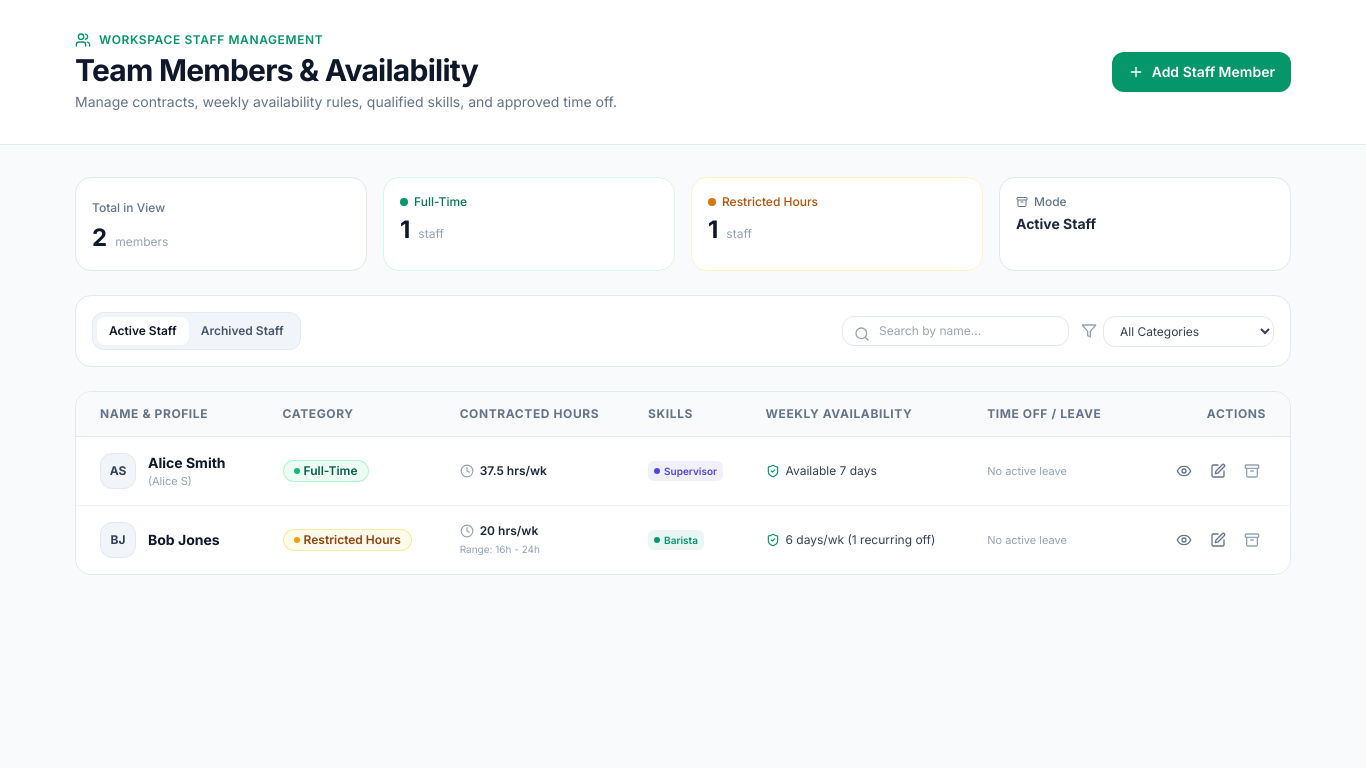
Test: StaffPage Component › opens detail modal when clicking a staff member name
What coordinates should you click on to do the following:
click the button "Alice Smith"
I would click on:
 (187, 463)
Its box is [148,453,226,473].
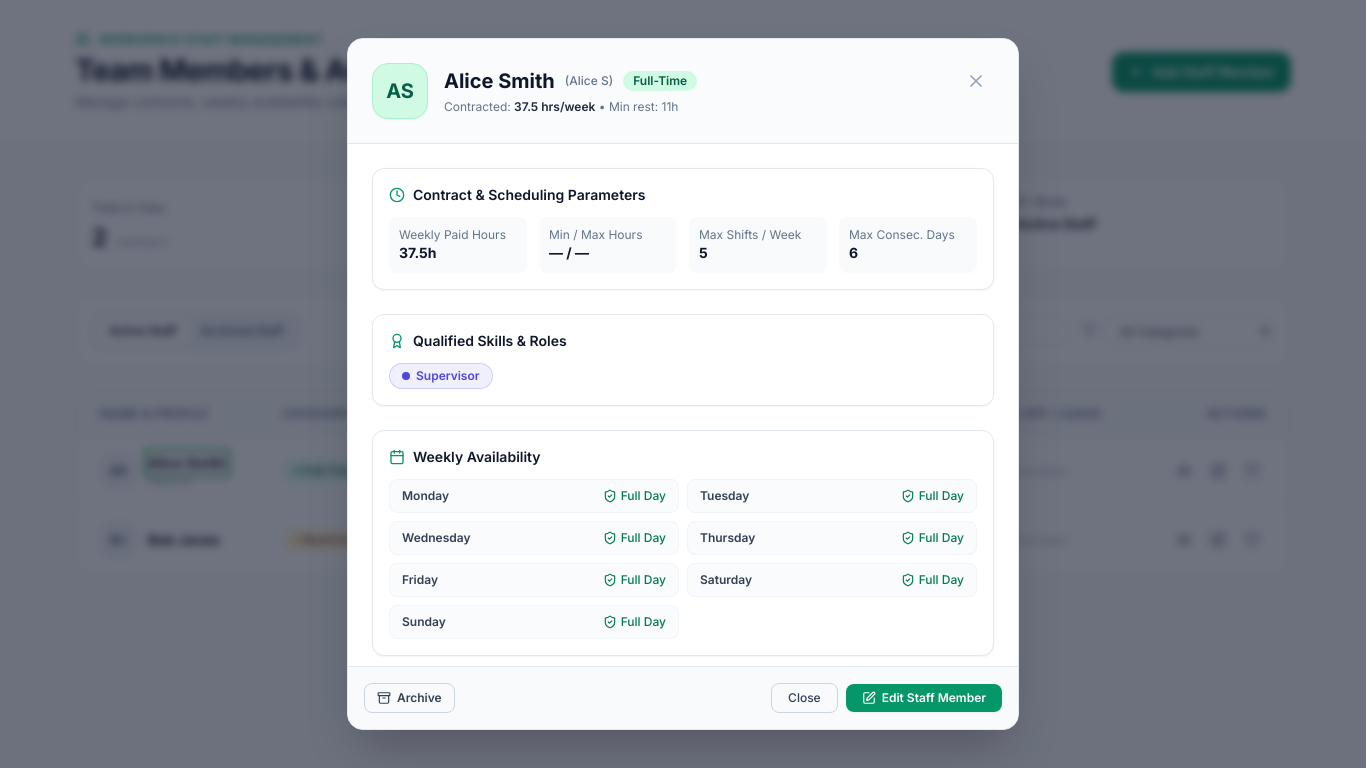
Check: the dialog is shown
Check: the text "Contract & Scheduling Parameters" is shown, box [413,185,646,205]
